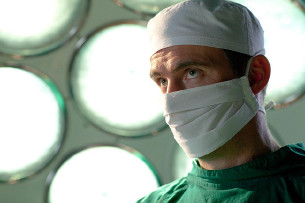face_mask: (149, 35, 238, 159)
